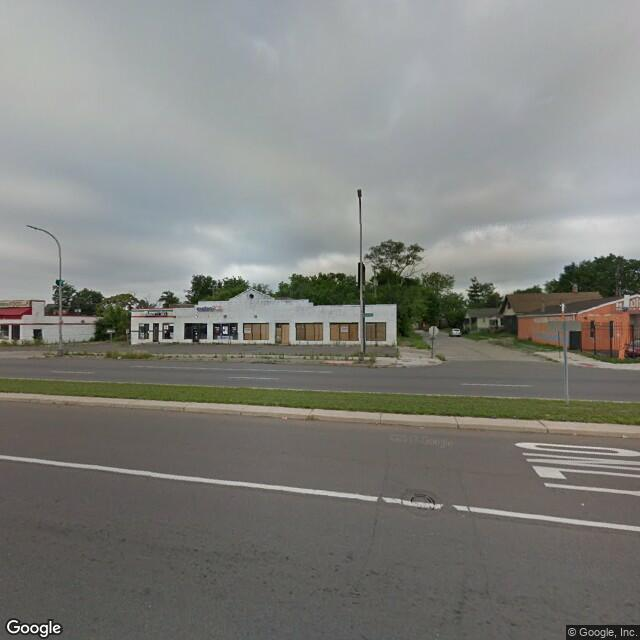litter: (620, 433, 627, 440), (280, 415, 287, 421), (572, 431, 581, 435), (117, 353, 121, 360)
